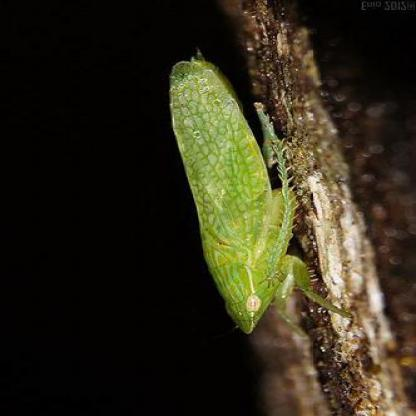green-leafhopper: (167, 58, 336, 334)
